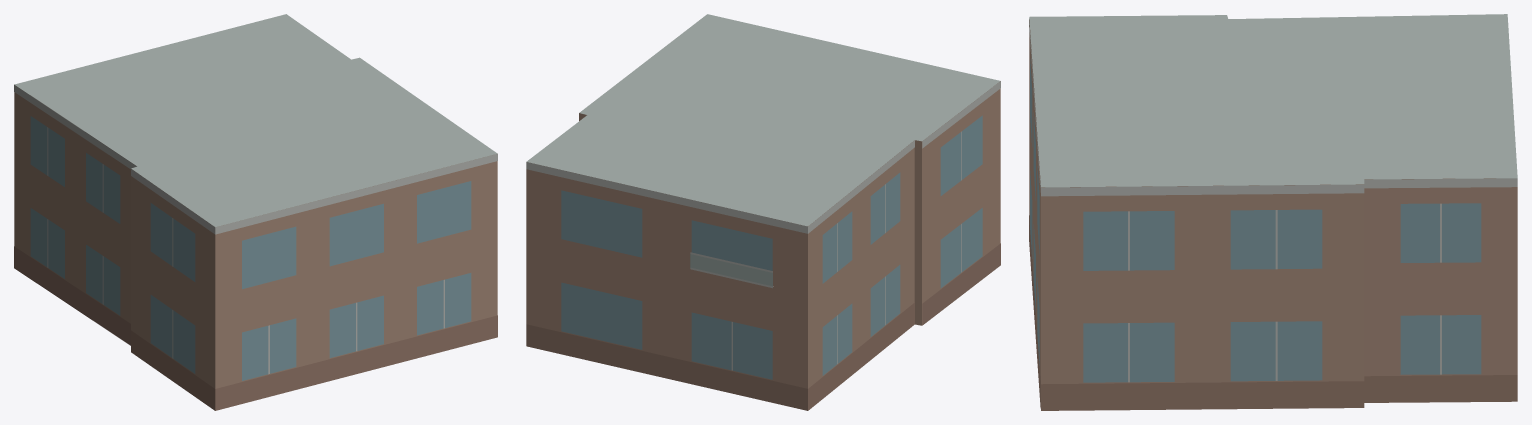
The model's file is survey-upis-32655165.glb.
3 views of the same model, side by side, from view 1: azimuth 30°, elevation 25°; view 2: azimuth 150°, elevation 25°; view 3: azimuth 270°, elevation 25° (orthographic). The views are drawn at different scales.
Visible parts, largest first — view 1: survey-upis-32655165.tmp; view 2: survey-upis-32655165.tmp; view 3: survey-upis-32655165.tmp.
Boxes of the visible parts, left/top/right/bottom form: survey-upis-32655165.tmp: left=14, top=14, right=497, bottom=410; survey-upis-32655165.tmp: left=526, top=14, right=1000, bottom=410; survey-upis-32655165.tmp: left=1029, top=14, right=1517, bottom=410.
Size of the model in its own units: 10.16 by 6.1 by 12.1.
